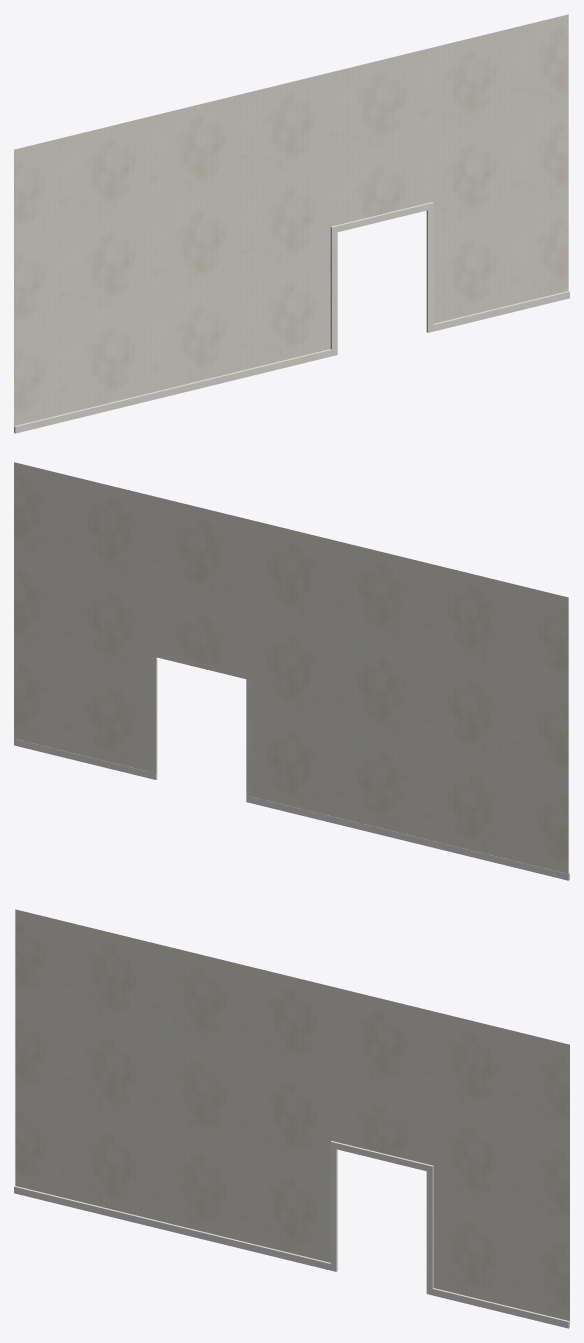
Rendered from wm_12_e3fde0ae.gltf.
The picture shows the model from 3 angles, top to bottom: view 1: azimuth 30°, elevation 25°; view 2: azimuth 150°, elevation 25°; view 3: azimuth 330°, elevation 25°; orthographic projection.
Visible parts, largest first — view 1: jx_wm_12_e3fde0ae; view 2: jx_wm_12_e3fde0ae; view 3: jx_wm_12_e3fde0ae.
Boxes of the visible parts, bbox=[...] form: jx_wm_12_e3fde0ae: bbox=[14, 14, 569, 433]; jx_wm_12_e3fde0ae: bbox=[14, 462, 569, 880]; jx_wm_12_e3fde0ae: bbox=[14, 909, 569, 1328].
Size of the model in its own units: 12.3 by 6 by 0.05.
Materials: 2 (2 with a texture image).
